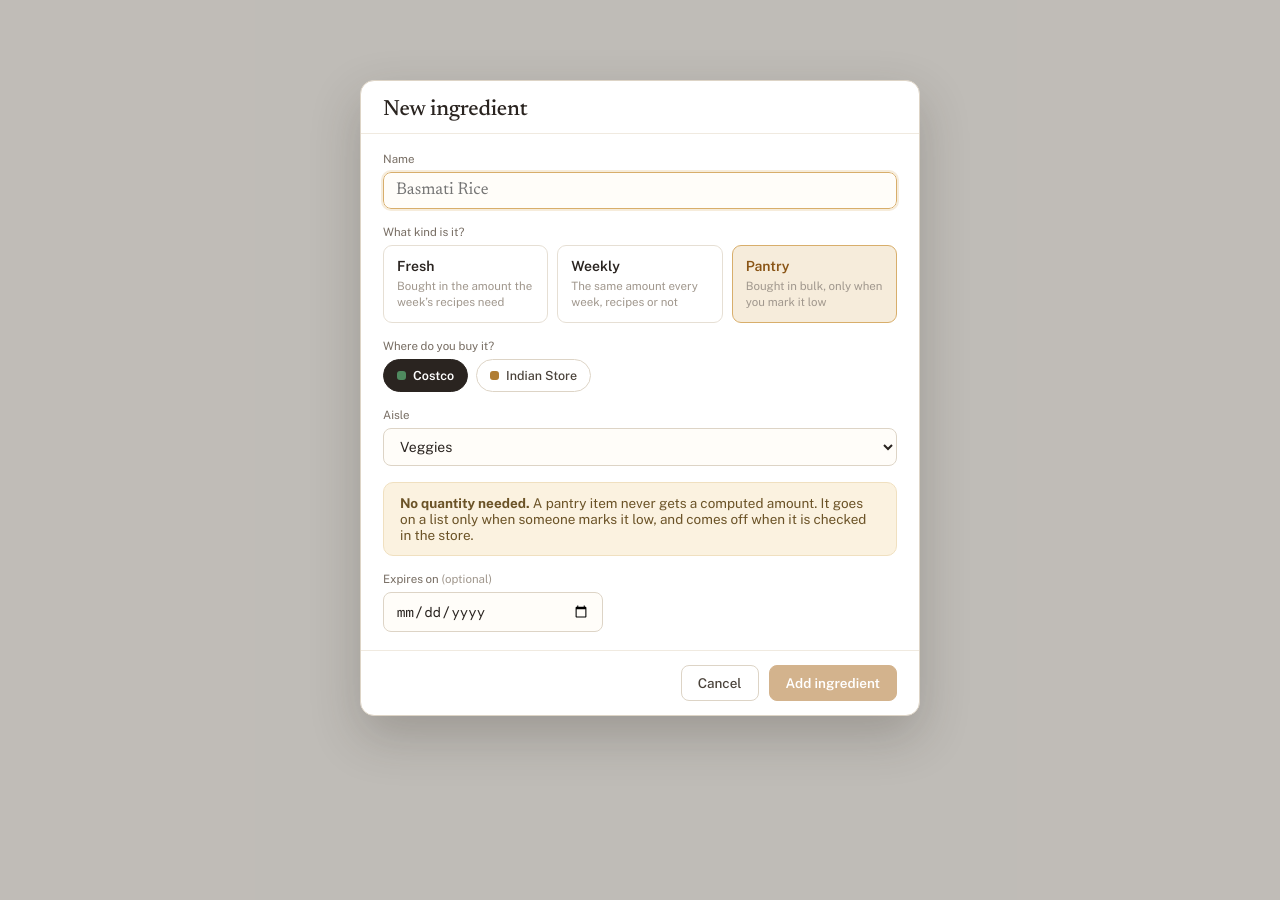
Test: IngredientDialog › shows the server error instead of closing
Type "Rice" into the field labelled "Name".
click(640, 190); type("Rice")  # box [383, 172, 897, 209]
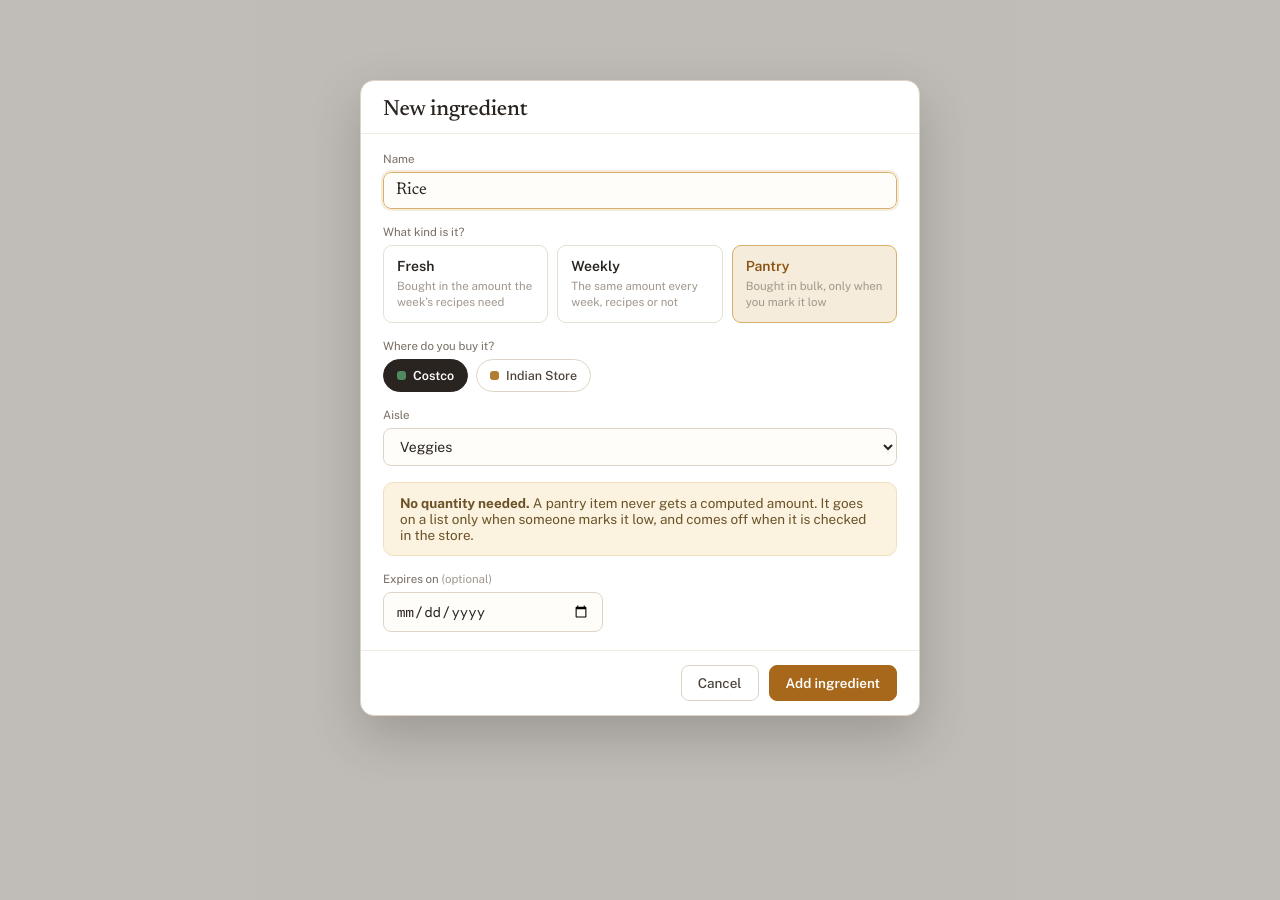
Click the button "Add ingredient".
click(833, 683)  # box [769, 665, 897, 701]
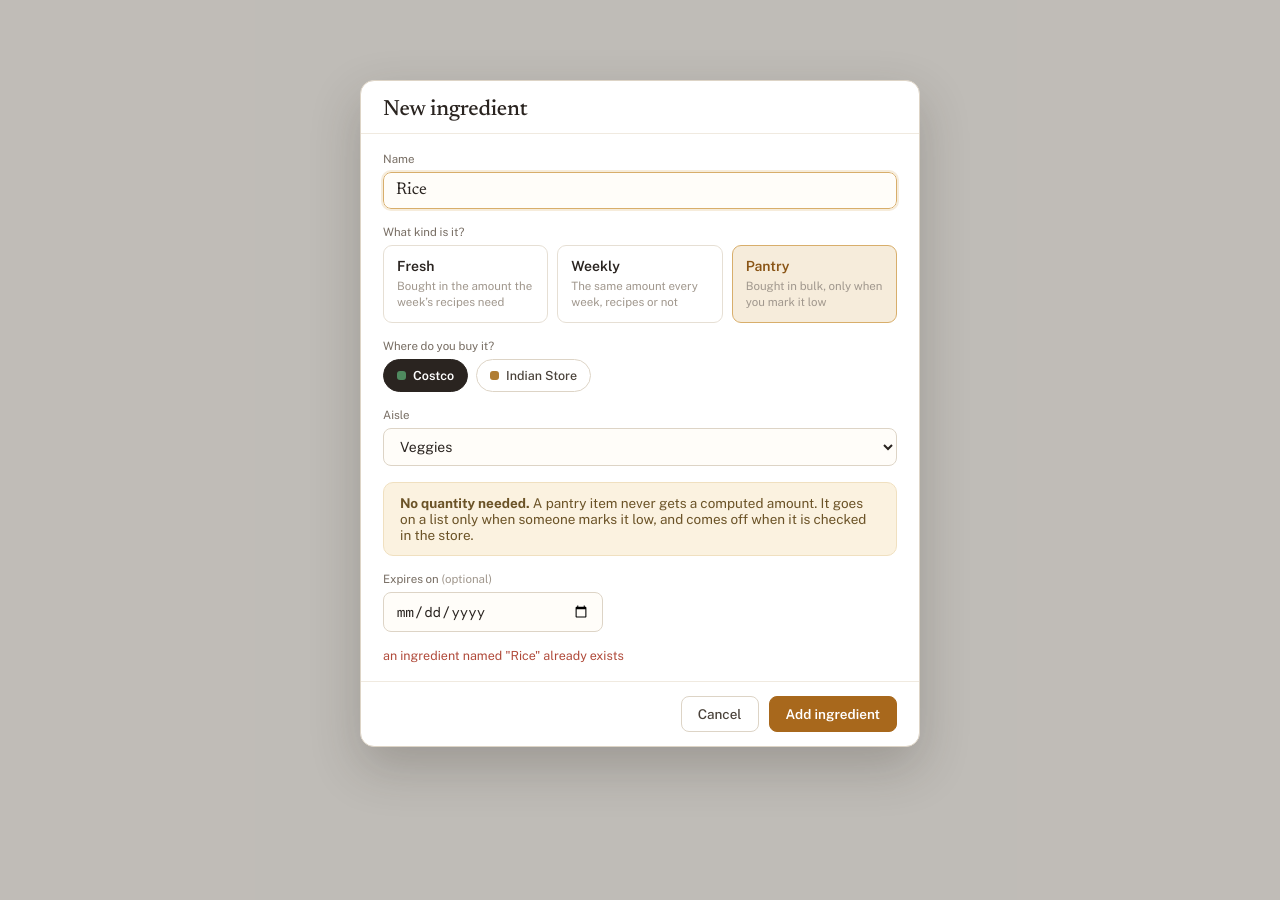
Result: the text "an ingredient named \"Rice\" already exists" is shown at [383, 648, 624, 663]
